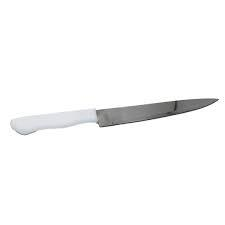Knife: (9, 97, 219, 135)
